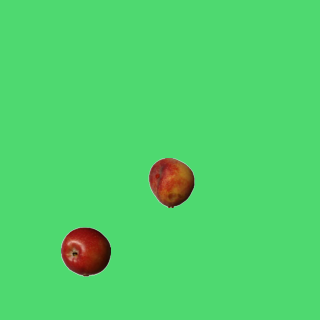Apple Braeburn: (60, 226, 110, 276)
Peach: (146, 157, 196, 207)
